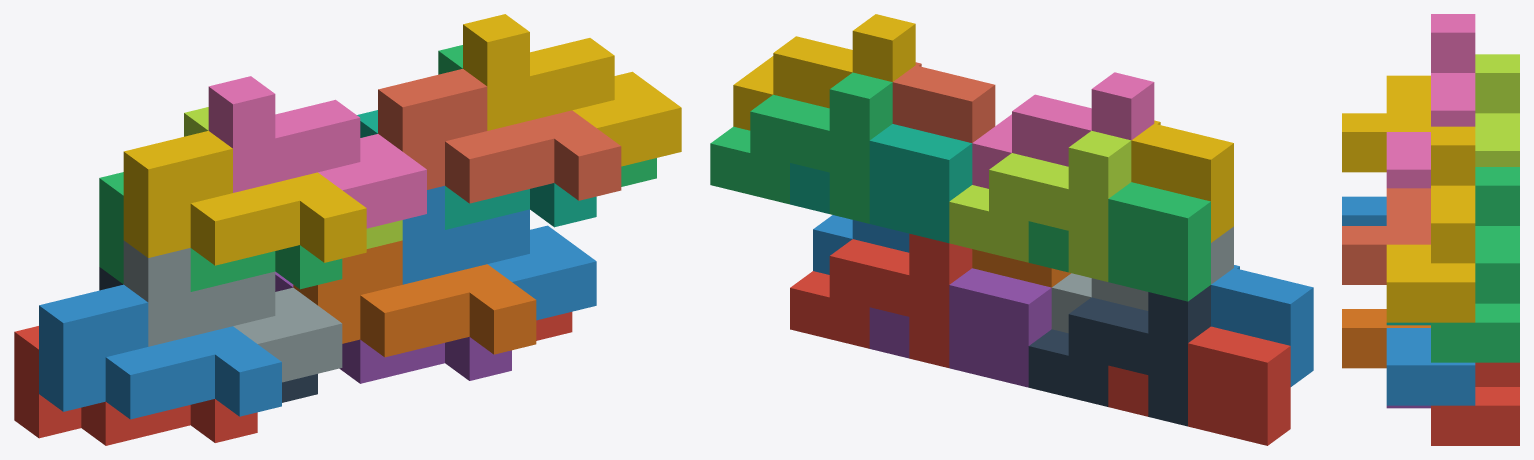
File: tiling.obj
3 renders of one model, left to right at view 1: azimuth 30°, elevation 25°; view 2: azimuth 150°, elevation 25°; view 3: azimuth 270°, elevation 25°, orthographic. The views are drawn at different scales.
Visible parts, largest first — view 1: copy_1_domain_4, copy_1_domain_2, copy_1_domain_8, copy_2_domain_4, copy_2_domain_8, copy_1_domain_6, copy_2_domain_2, copy_2_domain_6, copy_1_domain_1, copy_1_domain_3, copy_1_domain_5, copy_1_domain_7 (+4 smaller); view 2: copy_2_domain_3, copy_2_domain_7, copy_2_domain_1, copy_2_domain_5, copy_1_domain_3, copy_1_domain_1, copy_1_domain_7, copy_1_domain_5, copy_2_domain_8, copy_2_domain_4, copy_1_domain_2, copy_1_domain_4 (+4 smaller); view 3: copy_2_domain_8, copy_2_domain_7, copy_2_domain_4, copy_2_domain_5, copy_2_domain_6, copy_1_domain_4, copy_1_domain_8, copy_2_domain_3, copy_1_domain_6, copy_1_domain_2.
Part boxes in pixels (box(x1,y1,x2,y2)): copy_1_domain_4: box(123, 131, 366, 265); copy_1_domain_2: box(39, 284, 281, 419); copy_1_domain_8: box(378, 69, 621, 203); copy_2_domain_4: box(208, 76, 426, 228); copy_2_domain_8: box(463, 14, 681, 166); copy_1_domain_6: box(293, 240, 536, 357); copy_2_domain_2: box(123, 240, 342, 382); copy_2_domain_6: box(402, 186, 596, 320); copy_1_domain_1: box(14, 326, 257, 445); copy_1_domain_3: box(99, 172, 342, 291); copy_1_domain_5: box(275, 271, 511, 383); copy_1_domain_7: box(357, 110, 596, 229); copy_2_domain_3: box(949, 130, 1131, 281); copy_2_domain_7: box(710, 72, 892, 223); copy_2_domain_1: box(1028, 285, 1210, 426); copy_2_domain_5: box(790, 233, 972, 367); copy_1_domain_3: box(1028, 182, 1210, 301); copy_1_domain_1: box(1108, 326, 1290, 445); copy_1_domain_7: box(790, 124, 972, 243); copy_1_domain_5: box(869, 268, 1051, 387); copy_2_domain_8: box(733, 14, 915, 130); copy_2_domain_4: box(972, 72, 1154, 188); copy_1_domain_2: box(1211, 265, 1313, 386); copy_1_domain_4: box(1131, 120, 1233, 242); copy_2_domain_8: box(1386, 126, 1475, 322); copy_2_domain_7: box(1431, 167, 1519, 362); copy_2_domain_4: box(1386, 14, 1475, 188); copy_2_domain_5: box(1431, 362, 1519, 445); copy_2_domain_6: box(1386, 328, 1475, 405); copy_1_domain_4: box(1342, 75, 1430, 172); copy_1_domain_8: box(1342, 188, 1430, 284); copy_2_domain_3: box(1475, 54, 1519, 166); copy_1_domain_6: box(1342, 309, 1430, 368); copy_1_domain_2: box(1342, 196, 1386, 225).
Size of the model in its own units: 14 by 7 by 4.
